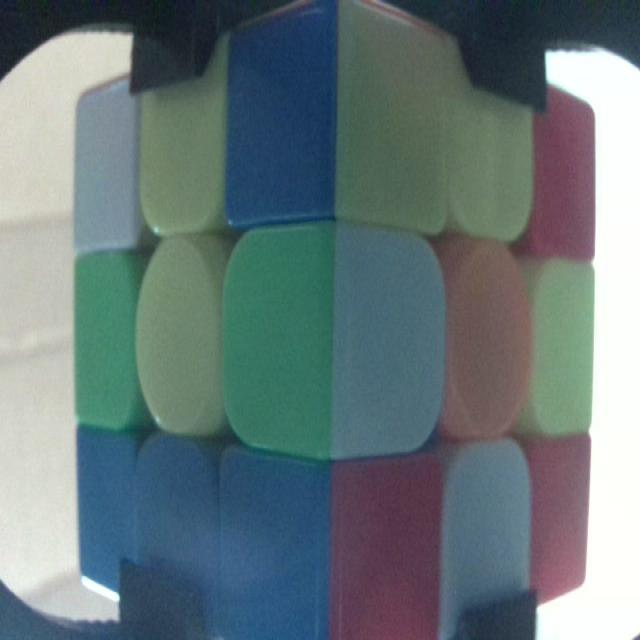b: (218, 457, 326, 640), (230, 37, 328, 214), (137, 438, 220, 640), (77, 432, 136, 598)
g: (225, 235, 328, 454), (74, 260, 134, 429)
o: (446, 244, 528, 441)
r: (334, 467, 439, 637), (537, 87, 592, 260), (530, 441, 586, 593)
w: (338, 228, 444, 457), (443, 452, 531, 638), (77, 101, 137, 248)
y: (341, 4, 444, 224), (448, 42, 532, 242), (137, 244, 220, 436), (138, 91, 226, 241), (527, 266, 592, 433)
